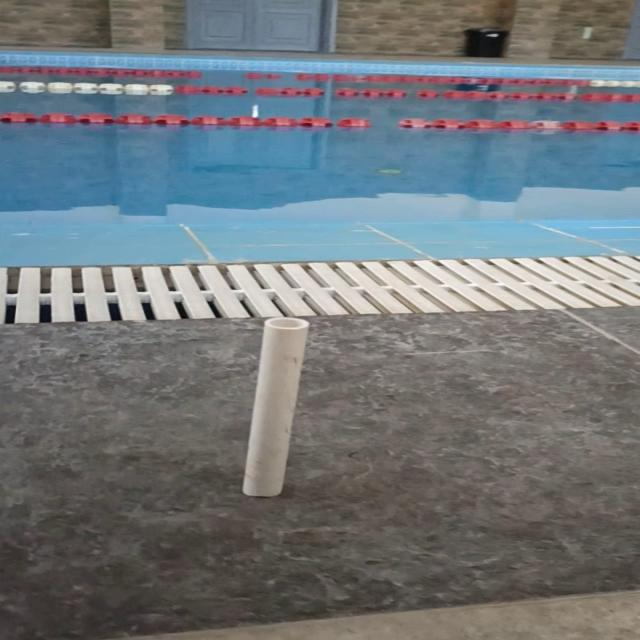Cube: (240, 315, 309, 497)
